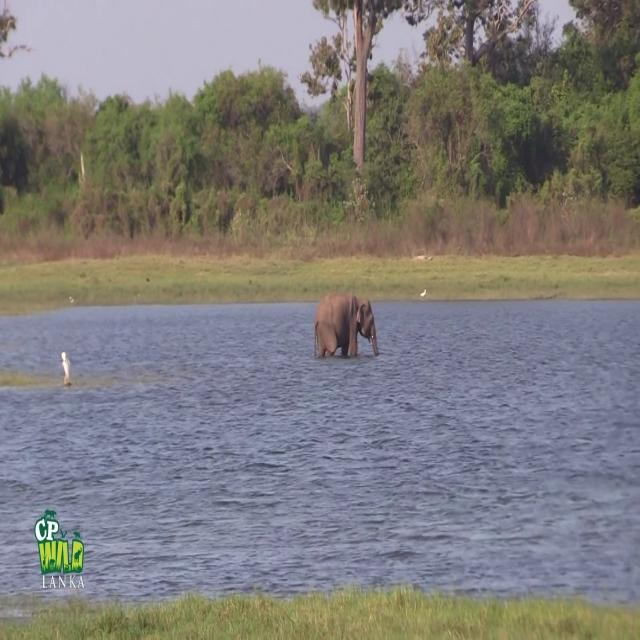Elephant: (314, 291, 378, 358)
